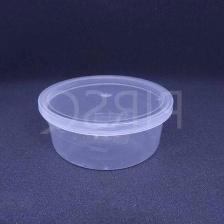plastic_box: (32, 69, 179, 174)
